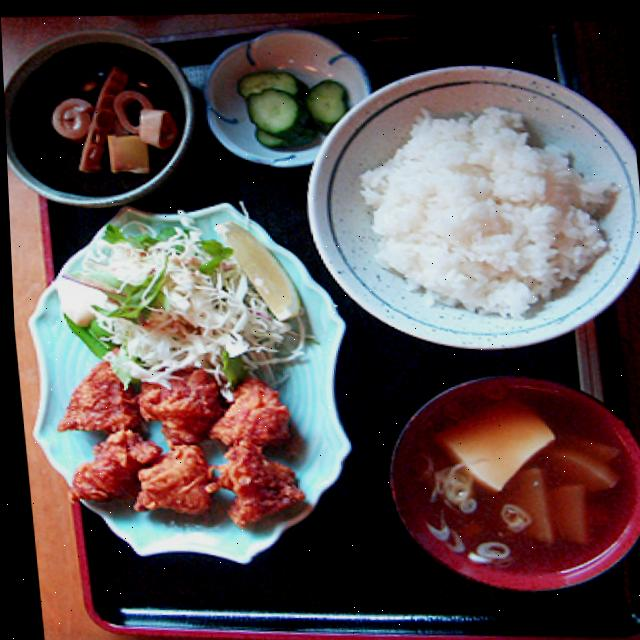米饭主食: (305, 47, 640, 365)
